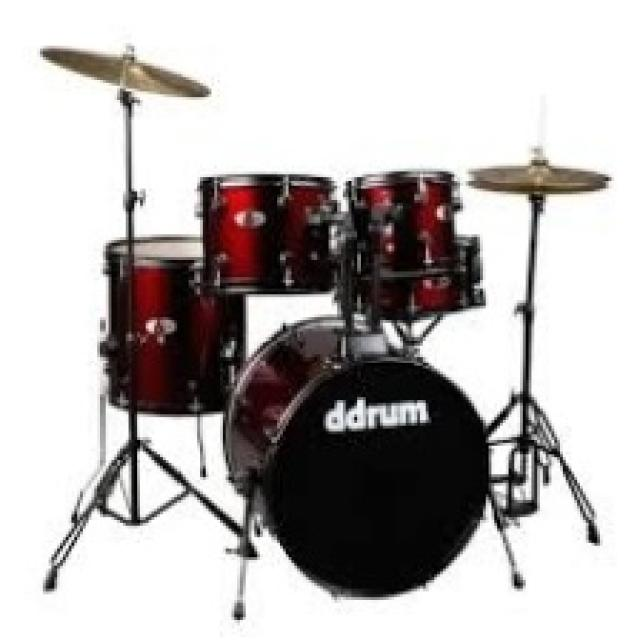drums: (35, 33, 606, 590)
